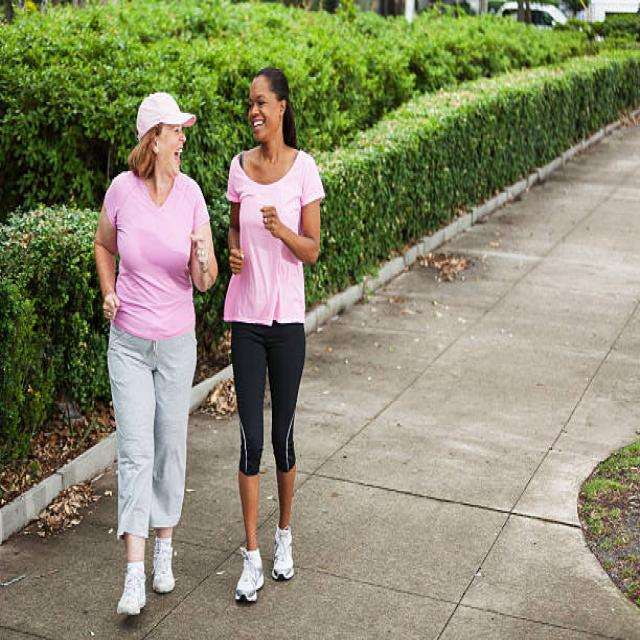Real human 2: (88, 56, 324, 636)
